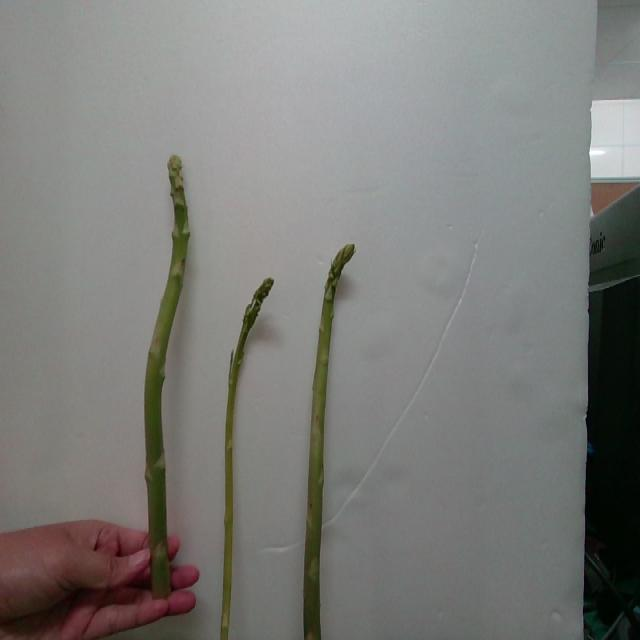aspargus: (303, 246, 358, 640), (142, 157, 189, 599), (222, 279, 274, 640)
